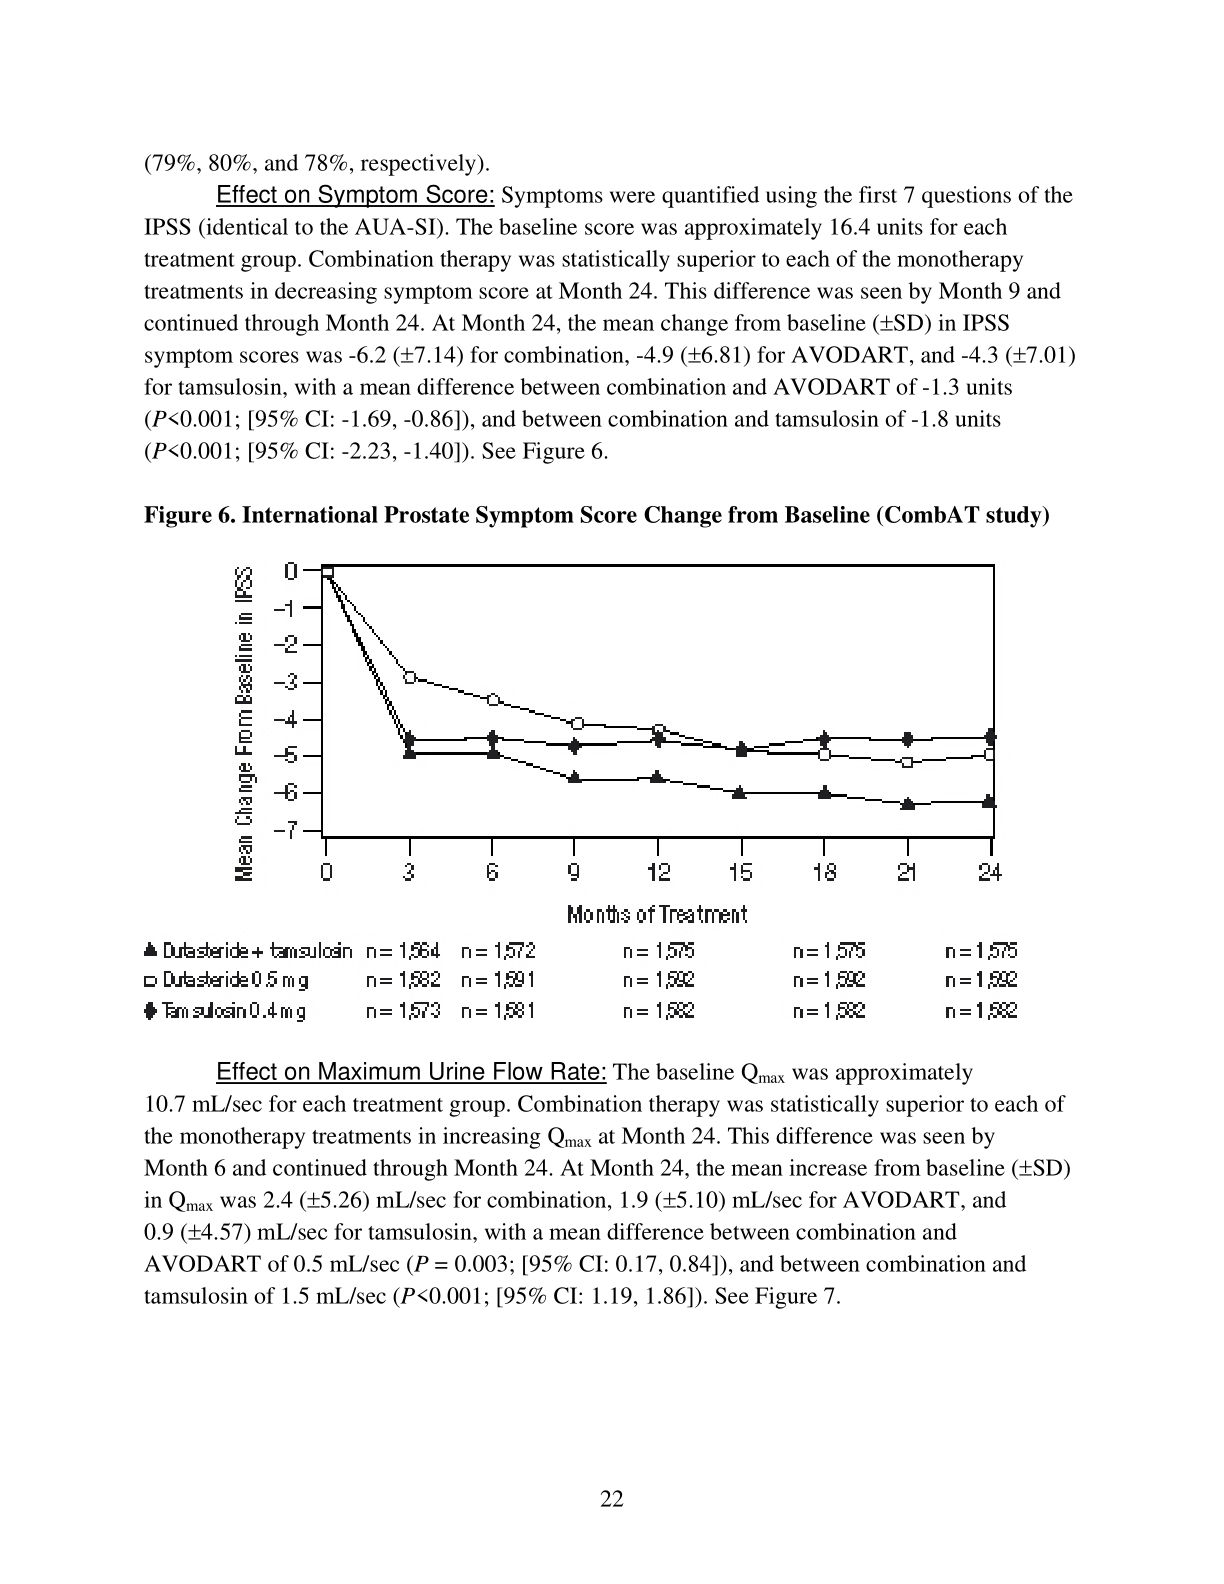nolines: (139, 939, 1021, 1023)
